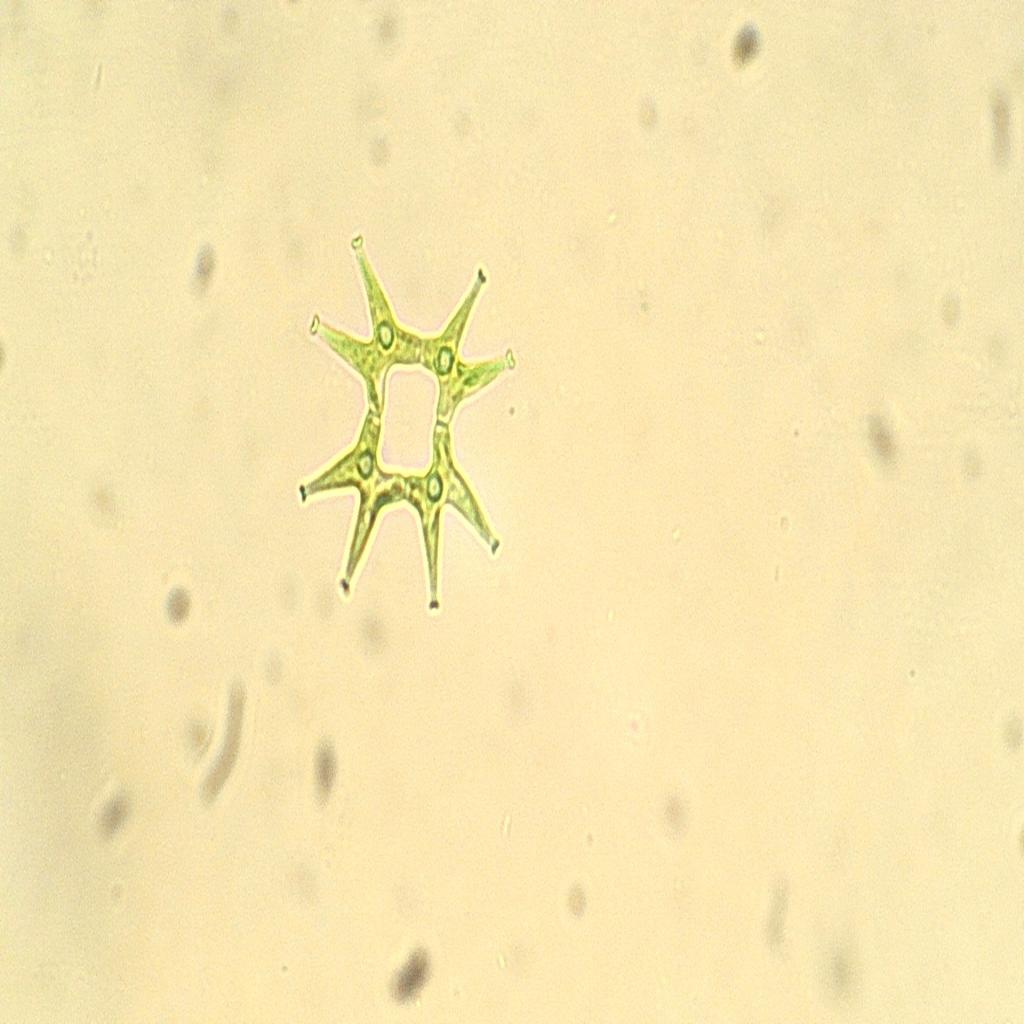Pediastrum_75O: (285, 217, 523, 627)
